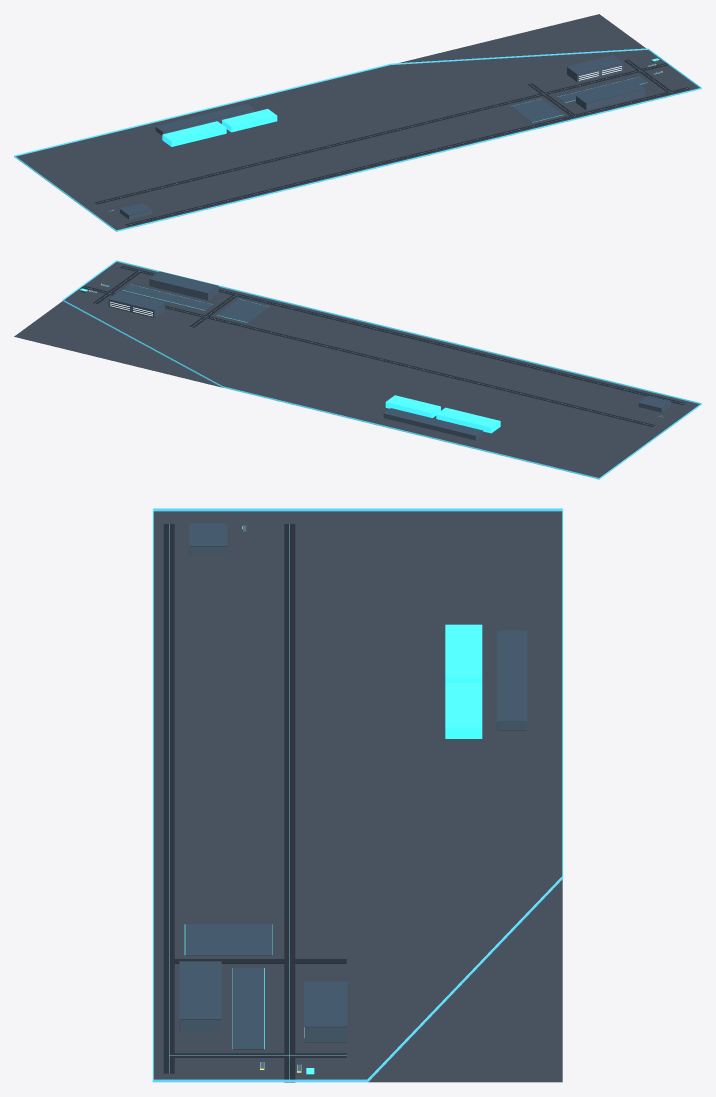
Rendered from site-shell-v4-high.glb.
3 renders of one model, top to bottom at view 1: azimuth 30°, elevation 25°; view 2: azimuth 150°, elevation 25°; view 3: azimuth 270°, elevation 25°, orthographic. The views are drawn at different scales.
Visible parts, largest first — view 1: site-apron-v4, road-00-00, road-01-00, perimeter-wall-00, ZONE-RSV-REBAR-mass, perimeter-wall-03, ZONE-REBAR-PROC-roof, ZONE-RSV-WH-mass, ZONE-TIRE-CRANE-pad, ZONE-MECH-WH-roof, perimeter-wall-02, ZONE-MECH-WH-body (+1 smaller); view 2: site-apron-v4, road-00-00, road-01-00, perimeter-wall-00, ZONE-RSV-REBAR-mass, perimeter-wall-03, ZONE-REBAR-PROC-roof, ZONE-RSV-WH-mass, ZONE-TIRE-CRANE-pad, ZONE-PARKING-pad, ZONE-MECH-WH-roof, ZONE-MECH-WH-body (+2 smaller); view 3: site-apron-v4, road-00-00, road-01-00, ZONE-REBAR-PROC-roof, ZONE-TIRE-CRANE-pad, ZONE-PARKING-pad, ZONE-MECH-WH-roof, ZONE-RSV-REBAR-mass, ZONE-RSV-WH-mass, perimeter-wall-04, perimeter-wall-00, ZONE-DORM-roof (+2 smaller).
Part boxes in pixels (left/top/right/bottom): site-apron-v4: left=16, top=14, right=699, bottom=230; road-00-00: left=95, top=63, right=668, bottom=204; road-01-00: left=125, top=87, right=689, bottom=226; perimeter-wall-00: left=116, top=87, right=701, bottom=231; ZONE-RSV-REBAR-mass: left=162, top=121, right=226, bottom=146; perimeter-wall-03: left=14, top=63, right=390, bottom=156; ZONE-REBAR-PROC-roof: left=155, top=104, right=254, bottom=131; ZONE-RSV-WH-mass: left=222, top=109, right=277, bottom=132; ZONE-TIRE-CRANE-pad: left=511, top=99, right=562, bottom=122; ZONE-MECH-WH-roof: left=576, top=81, right=645, bottom=103; perimeter-wall-02: left=390, top=48, right=647, bottom=64; ZONE-MECH-WH-body: left=576, top=89, right=645, bottom=110; site-apron-v4: left=14, top=262, right=699, bottom=477; road-00-00: left=81, top=285, right=655, bottom=427; road-01-00: left=120, top=265, right=685, bottom=404; perimeter-wall-00: left=116, top=260, right=701, bottom=403; ZONE-RSV-REBAR-mass: left=436, top=407, right=500, bottom=433; perimeter-wall-03: left=222, top=386, right=599, bottom=479; ZONE-REBAR-PROC-roof: left=383, top=408, right=482, bottom=436; ZONE-RSV-WH-mass: left=385, top=395, right=440, bottom=417; ZONE-TIRE-CRANE-pad: left=217, top=299, right=269, bottom=322; ZONE-PARKING-pad: left=123, top=284, right=212, bottom=310; ZONE-MECH-WH-roof: left=149, top=271, right=218, bottom=293; ZONE-MECH-WH-body: left=149, top=279, right=218, bottom=300; site-apron-v4: left=153, top=511, right=562, bottom=1082; road-00-00: left=284, top=524, right=295, bottom=1082; road-01-00: left=163, top=524, right=174, bottom=1073; ZONE-REBAR-PROC-roof: left=497, top=630, right=527, bottom=721; ZONE-TIRE-CRANE-pad: left=185, top=924, right=272, bottom=955; ZONE-PARKING-pad: left=233, top=968, right=264, bottom=1049; ZONE-MECH-WH-roof: left=179, top=961, right=221, bottom=1019; ZONE-RSV-REBAR-mass: left=445, top=624, right=482, bottom=682; ZONE-RSV-WH-mass: left=445, top=683, right=482, bottom=738; perimeter-wall-04: left=153, top=508, right=562, bottom=511; perimeter-wall-00: left=152, top=508, right=153, bottom=1081; ZONE-DORM-roof: left=304, top=1004, right=347, bottom=1027.
Bounding box in the file's own units: 1275 × 16.95 × 387.
